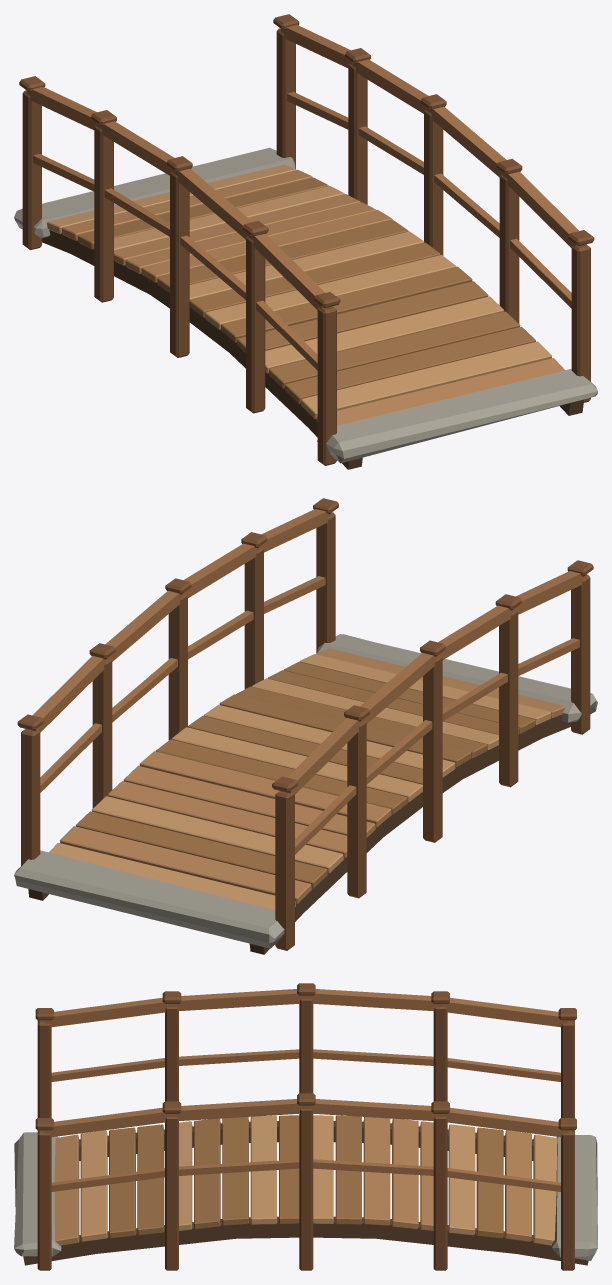
The model's file is bridge.glb.
3 views of the same model, one above another, from view 1: azimuth 30°, elevation 25°; view 2: azimuth 150°, elevation 25°; view 3: azimuth 270°, elevation 25° (orthographic). The views are drawn at different scales.
Parts seen in each view (by area): view 1: bridge; view 2: bridge; view 3: bridge.
Part boxes in pixels (bbox=[...]): bridge: bbox=[14, 14, 597, 469]; bridge: bbox=[14, 498, 597, 954]; bridge: bbox=[14, 983, 597, 1270].
Bounding box in the file's own units: 1.97 × 1.35 × 4.13.
